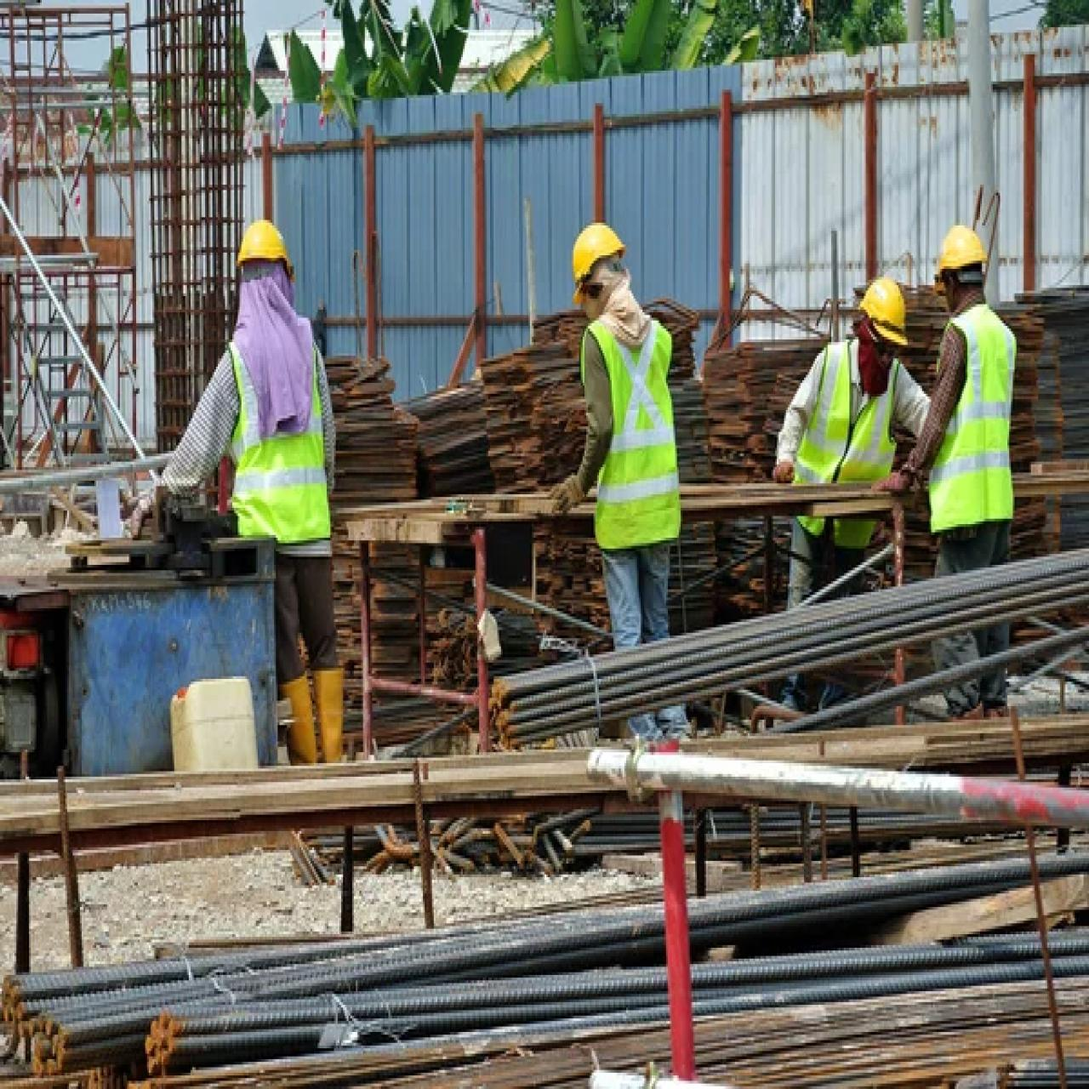Person: (138, 199, 383, 811), (552, 206, 716, 749), (764, 264, 942, 725), (874, 210, 1026, 713)
Safety_Vest: (216, 328, 338, 547), (791, 334, 908, 547), (585, 312, 681, 549), (925, 301, 1012, 546)
